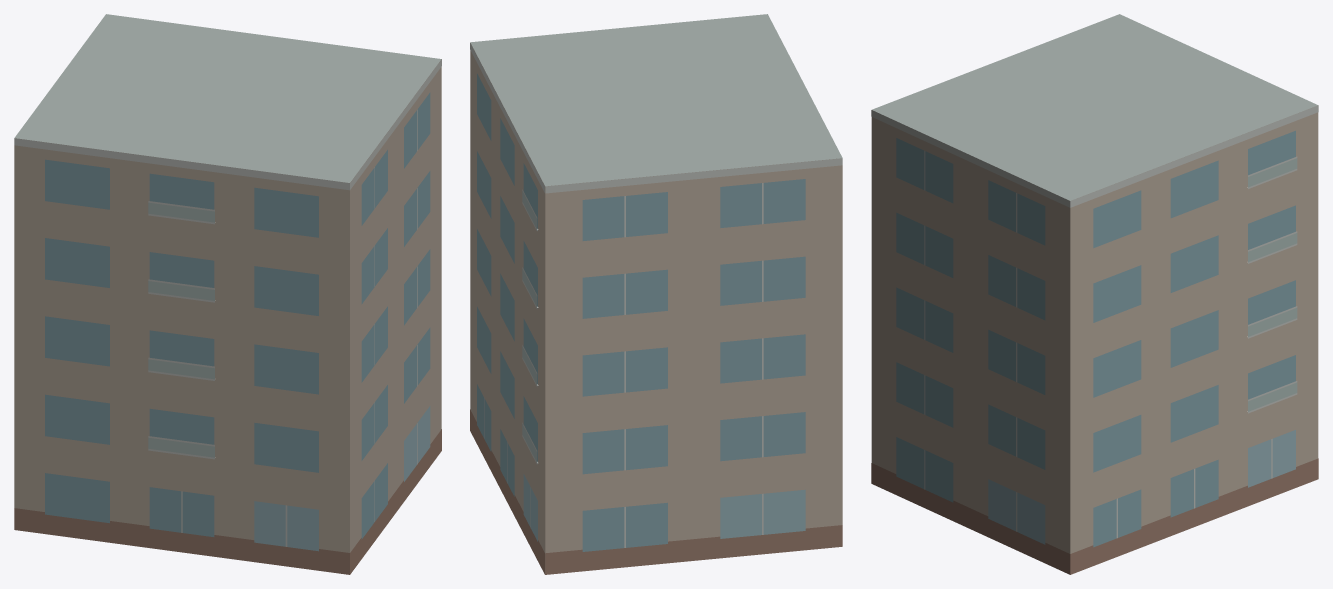
Rendered from survey-upis-32686904.glb.
The picture shows the model from 3 angles, left to right: view 1: azimuth 30°, elevation 25°; view 2: azimuth 150°, elevation 25°; view 3: azimuth 270°, elevation 25°; orthographic projection. The views are drawn at different scales.
Parts seen in each view (by area): view 1: survey-upis-32686904.tmp; view 2: survey-upis-32686904.tmp; view 3: survey-upis-32686904.tmp.
Boxes of the visible parts, bbox=[...] form: survey-upis-32686904.tmp: bbox=[14, 14, 441, 574]; survey-upis-32686904.tmp: bbox=[470, 14, 842, 574]; survey-upis-32686904.tmp: bbox=[871, 14, 1318, 574].
Size of the model in its own units: 14.17 by 13.2 by 14.31.
